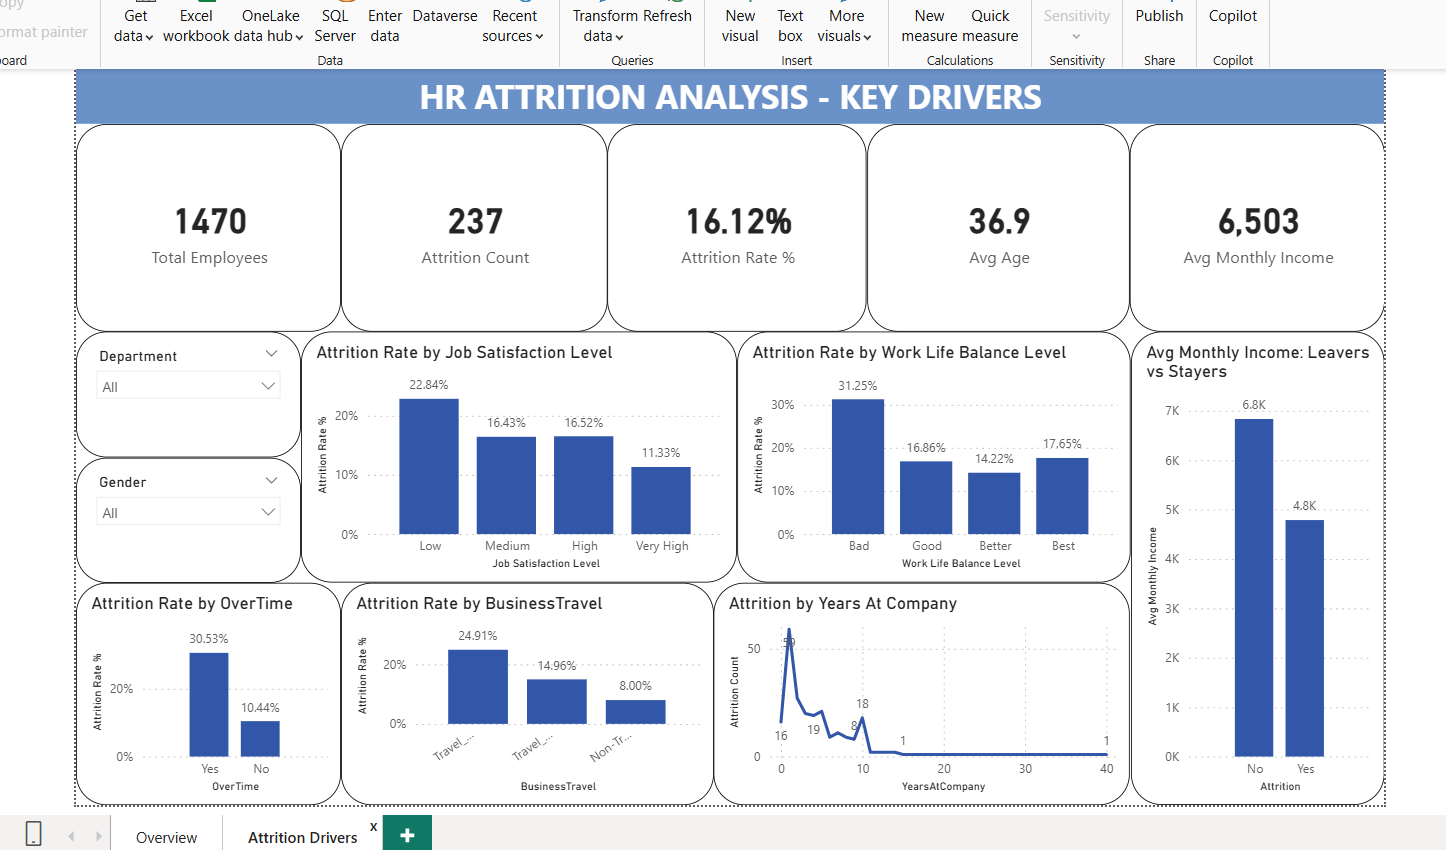

Layout of this report page (visuals, bound fields, positions):
{"tool":"powerbi","page":{"name":"Attrition Drivers","canvas":[1280,720],"ordinal":1},"visuals":[{"type":"textbox","box":[0,0,1280.3,53.5],"z":0},{"type":"card","fields":{"Values":["HR.Total Employees"]},"box":[0,53.5,259.3,203.1],"z":1000},{"type":"card","fields":{"Values":["HR.Attrition Rate %"]},"box":[520.1,53.5,253.9,203.1],"z":2000},{"type":"card","fields":{"Values":["HR.Avg Age"]},"box":[773.9,53.5,256.6,203.1],"z":3000},{"type":"card","fields":{"Values":["HR.Avg Monthly Income"]},"box":[1030.5,53.5,249.7,203.1],"z":4000},{"type":"card","fields":{"Values":["HR.Attrition Count"]},"box":[259.3,53.5,260.7,203.1],"z":5000},{"type":"slicer","fields":{"Values":["HR.Department"]},"box":[0,256.8,220.1,123.5],"z":6000},{"type":"slicer","fields":{"Values":["HR.Gender"]},"box":[0,380.3,220.1,122.3],"z":7000},{"type":"clusteredColumnChart","title":"Attrition Rate by OverTime","fields":{"Category":["HR.OverTime"],"Y":["HR.Attrition Rate %"]},"box":[0,502.6,294.7,217.7],"z":7001},{"type":"clusteredColumnChart","title":"Attrition Rate by Job Satisfaction Level","fields":{"Y":["HR.Attrition Rate %"],"Category":["HR.Job Satisfaction Level"]},"box":[220.1,256.8,426.8,245.8],"z":7002},{"type":"clusteredColumnChart","title":"Attrition Rate by Work Life Balance Level","fields":{"Category":["HR.Work Life Balance Level"],"Y":["HR.Attrition Rate %"]},"box":[646.9,256.8,385.2,245.8],"z":7003},{"type":"clusteredColumnChart","title":"Avg Monthly Income: Leavers vs Stayers","fields":{"Category":["HR.Attrition"],"Y":["HR.Avg Monthly Income"]},"box":[1032.1,256.8,248.2,463.5],"z":7004},{"type":"clusteredColumnChart","title":"Attrition Rate by BusinessTravel","fields":{"Category":["HR.BusinessTravel"],"Y":["HR.Attrition Rate %"]},"box":[294.7,502.6,380.3,217.7],"z":7005},{"type":"lineChart","title":"Attrition by Years At Company","fields":{"Category":["HR.YearsAtCompany"],"Y":["HR.Attrition Count"]},"box":[675,502.6,355.8,217.7],"z":7006}]}

Visuals, with their boxes on the page's 1280x720 design canvas (x1, y1, x2, y2). These are canvas units, not pixel positions in the 1446x850 screenshot, which may show the page scaled, cropped or inside an application window:
textbox: locate(0, 0, 1280, 54)
card - HR.Total Employees: locate(0, 54, 259, 257)
card - HR.Attrition Rate %: locate(520, 54, 774, 257)
card - HR.Avg Age: locate(774, 54, 1030, 257)
card - HR.Avg Monthly Income: locate(1030, 54, 1280, 257)
card - HR.Attrition Count: locate(259, 54, 520, 257)
slicer - HR.Department: locate(0, 257, 220, 380)
slicer - HR.Gender: locate(0, 380, 220, 503)
"Attrition Rate by OverTime" clusteredColumnChart: locate(0, 503, 295, 720)
"Attrition Rate by Job Satisfaction Level" clusteredColumnChart: locate(220, 257, 647, 503)
"Attrition Rate by Work Life Balance Level" clusteredColumnChart: locate(647, 257, 1032, 503)
"Avg Monthly Income: Leavers vs Stayers" clusteredColumnChart: locate(1032, 257, 1280, 720)
"Attrition Rate by BusinessTravel" clusteredColumnChart: locate(295, 503, 675, 720)
"Attrition by Years At Company" lineChart: locate(675, 503, 1031, 720)
